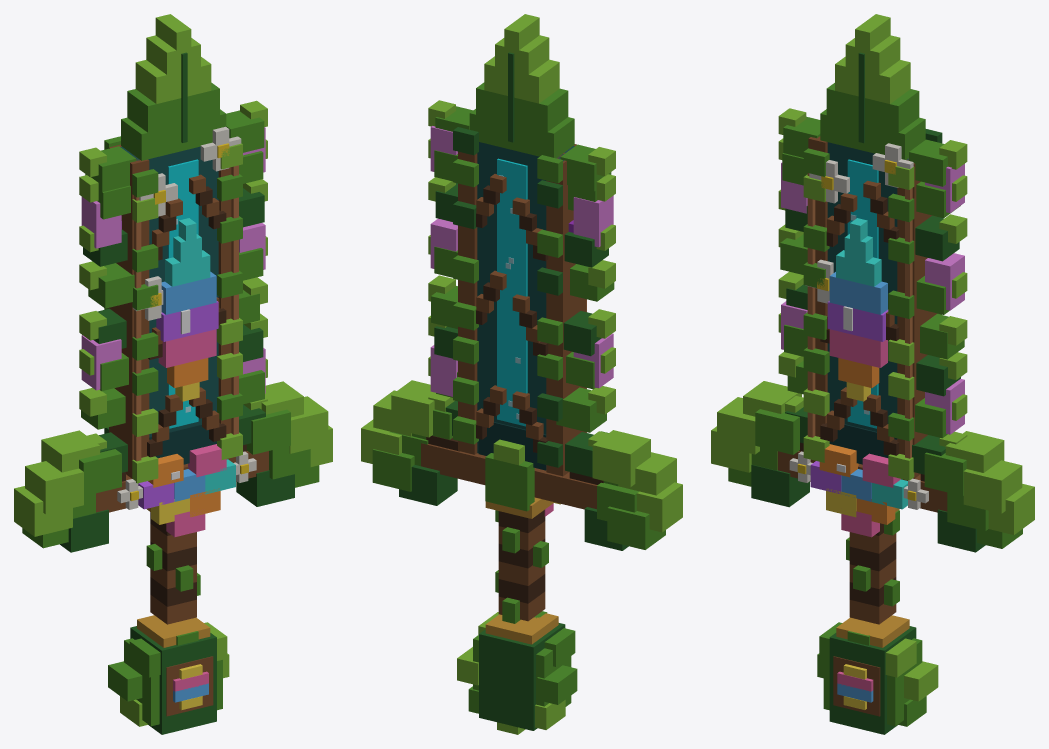
The model's file is gladeheart_blade_blender.glb.
3 renders of one model, left to right at view 1: azimuth 30°, elevation 25°; view 2: azimuth 150°, elevation 25°; view 3: azimuth 330°, elevation 25°, orthographic.
Parts seen in each view (by area): view 1: Leaves, Crystal, Branch, Gem, Blade, Grip, Flowers, Gold; view 2: Leaves, Branch, Crystal, Blade, Grip, Gold; view 3: Leaves, Crystal, Branch, Gem, Blade, Grip, Flowers, Gold.
Boxes of the visible parts, x1,y1,x2,y2 form: Leaves: [14, 14, 332, 734]; Crystal: [81, 127, 265, 428]; Branch: [96, 144, 268, 716]; Gem: [138, 444, 235, 710]; Blade: [120, 146, 218, 464]; Grip: [150, 512, 196, 624]; Flowers: [117, 126, 256, 509]; Gold: [137, 508, 210, 647]; Leaves: [361, 14, 682, 734]; Branch: [421, 144, 603, 509]; Crystal: [430, 126, 613, 426]; Blade: [477, 142, 574, 470]; Grip: [498, 510, 545, 621]; Gold: [485, 497, 558, 644]; Leaves: [711, 14, 1034, 734]; Crystal: [781, 159, 964, 434]; Branch: [777, 136, 947, 716]; Gem: [810, 444, 907, 709]; Blade: [827, 142, 908, 464]; Grip: [849, 523, 896, 624]; Flowers: [789, 143, 928, 509]; Gold: [836, 508, 909, 647].
Size of the model in its own units: 0.71 by 1.58 by 0.145.
